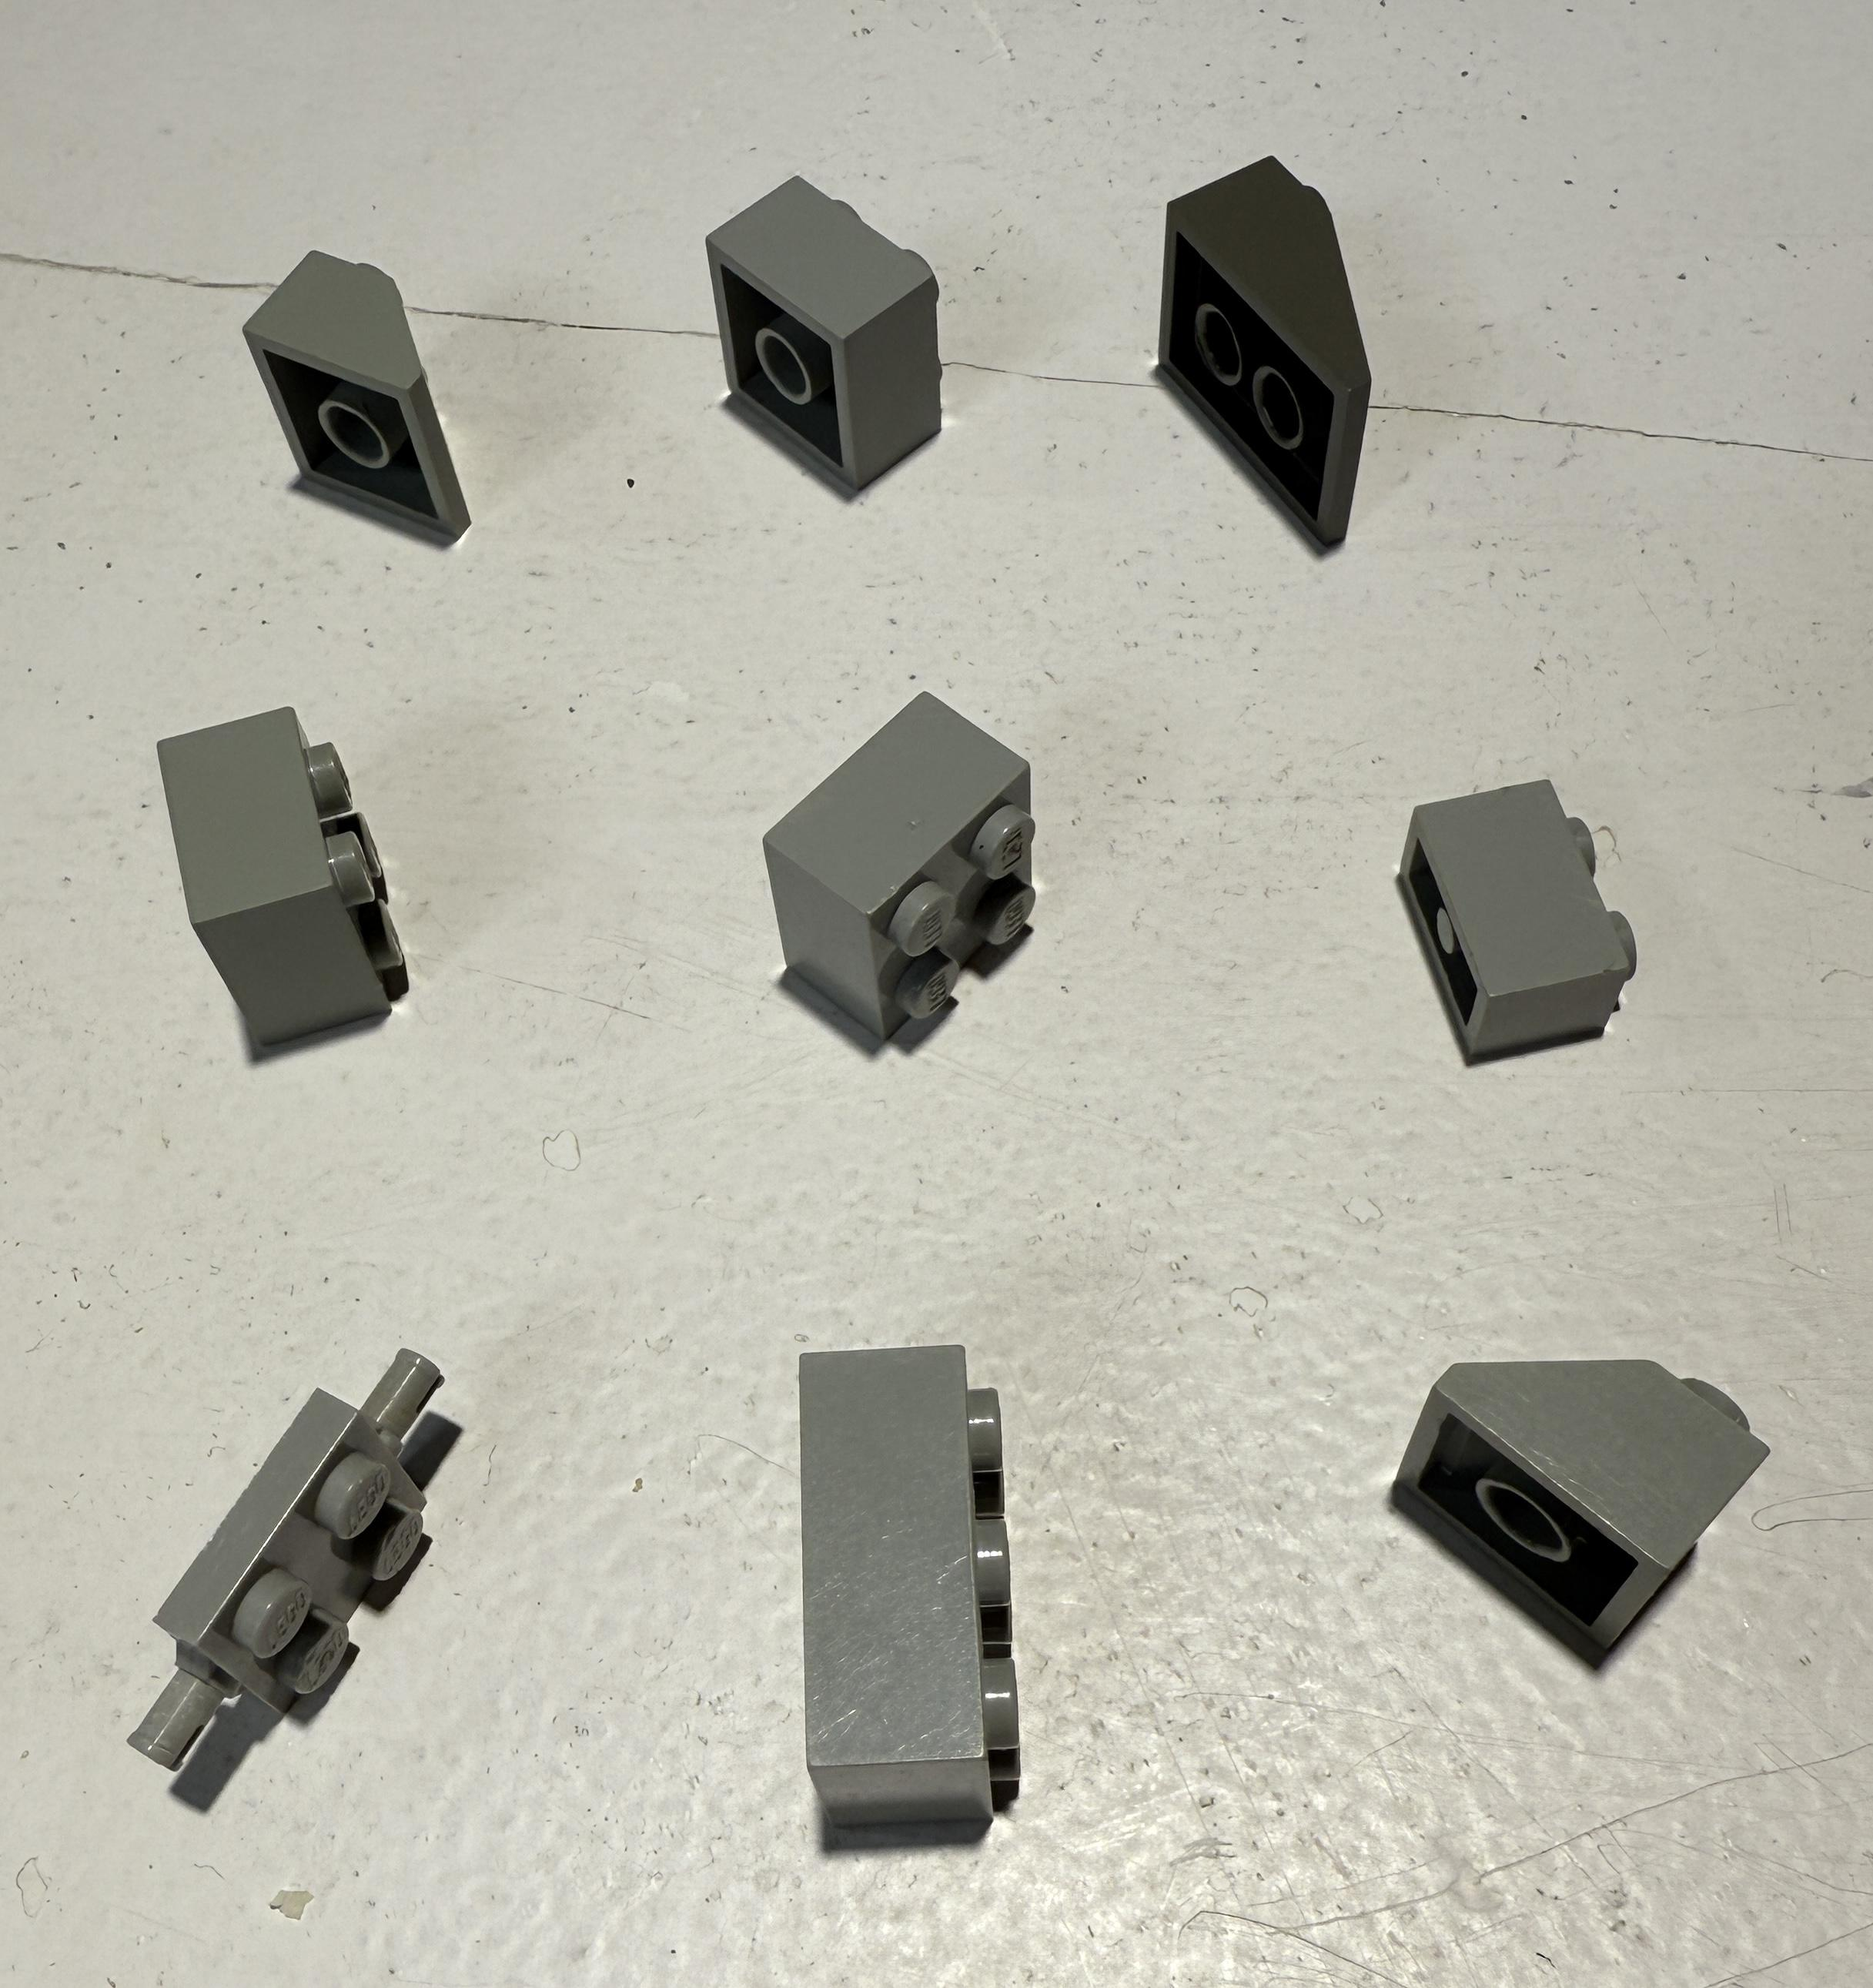Special_02: (1378, 1287, 1796, 1705), (195, 211, 539, 583)
brick_1x2: (1350, 722, 1651, 1104)
brick_1x3: (750, 1266, 1088, 1867)
brick_2x2: (650, 148, 1005, 560), (734, 676, 1081, 1074), (134, 687, 444, 1088)
